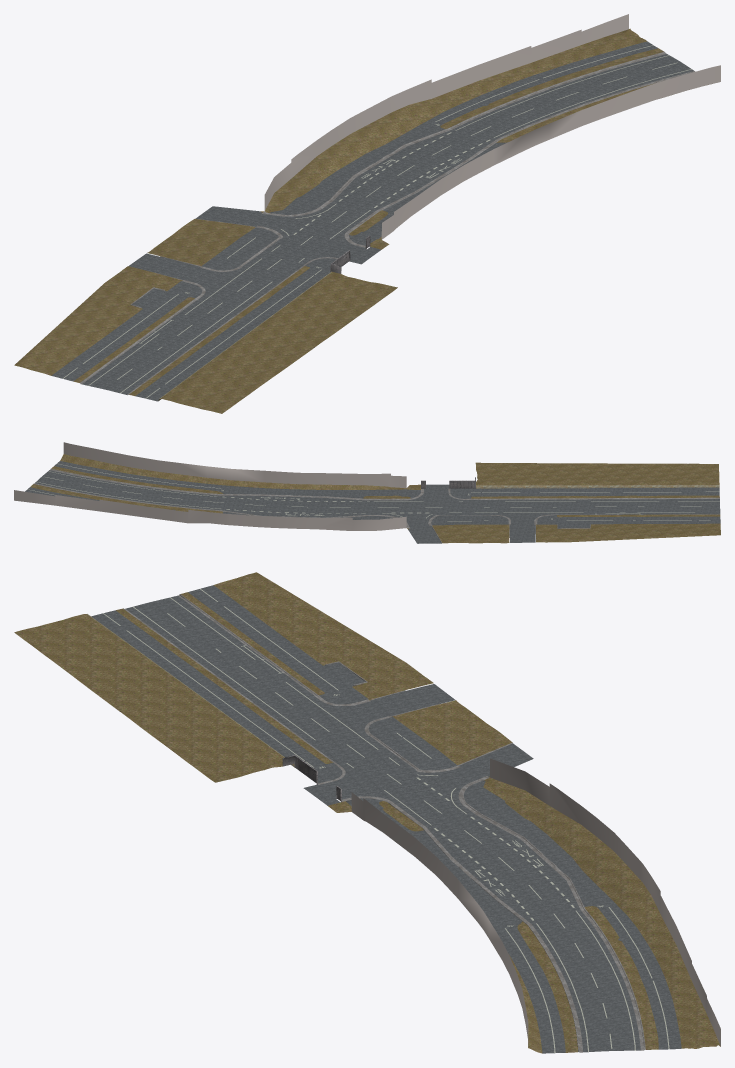
Rendered from zimCreateArchive_Area07_Ground.fbx.
The picture shows the model from 3 angles, top to bottom: view 1: azimuth 30°, elevation 25°; view 2: azimuth 150°, elevation 25°; view 3: azimuth 270°, elevation 25°; orthographic projection. The views are drawn at different scales.
Visible parts, largest first — view 1: Ground-Grass1, Ground-Road, Ground-Path-DarkGrey, Ground-Wall-Silver, Ground-Kerb, Ground-RoadMark; view 2: Ground-Grass1, Ground-Road, Ground-Wall-Silver, Ground-Path-DarkGrey, Ground-Kerb, Ground-RoadMark, Ground-Wall-BrickCastleWall, Ground-Wall-Bricks4; view 3: Ground-Grass1, Ground-Road, Ground-Path-DarkGrey, Ground-Wall-Silver, Ground-Kerb, Ground-RoadMark.
Boxes of the visible parts, x1,y1,x2,y2 form: Ground-Grass1: (14,28,711,413); Ground-Road: (82,54,693,394); Ground-Path-DarkGrey: (51,41,657,401); Ground-Wall-Silver: (264,14,720,239); Ground-Kerb: (80,52,694,395); Ground-RoadMark: (63,45,691,398); Ground-Grass1: (30,454,720,543); Ground-Road: (35,470,720,543); Ground-Wall-Silver: (14,442,406,530); Ground-Path-DarkGrey: (25,461,720,527); Ground-Kerb: (33,468,719,543); Ground-RoadMark: (27,463,719,521); Ground-Wall-BrickCastleWall: (476,485,719,488); Ground-Wall-Bricks4: (421,477,475,488); Ground-Grass1: (14,572,720,1053); Ground-Road: (126,595,640,1052); Ground-Path-DarkGrey: (91,585,681,1053); Ground-Wall-Silver: (351,758,720,1046); Ground-Kerb: (123,594,645,1052); Ground-RoadMark: (103,588,669,1052).
Size of the model in its own units: 157 by 98.5 by 4.4.
Materials: 7 (7 with a texture image).
